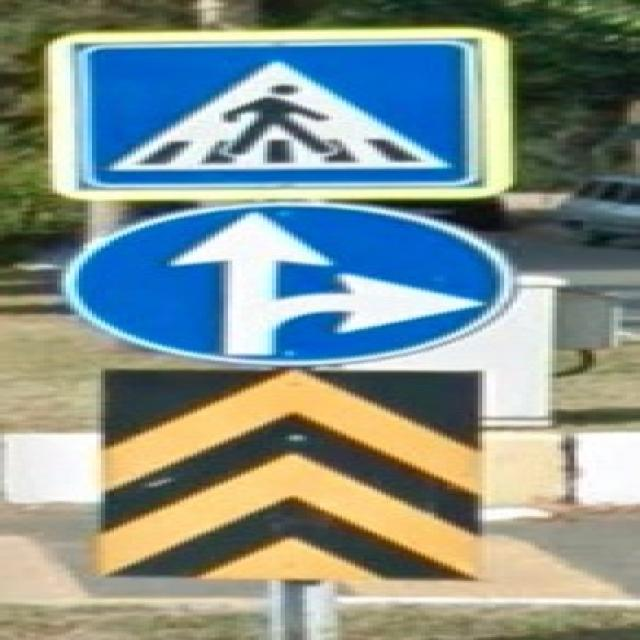Straight or Right: (65, 207, 512, 366)
